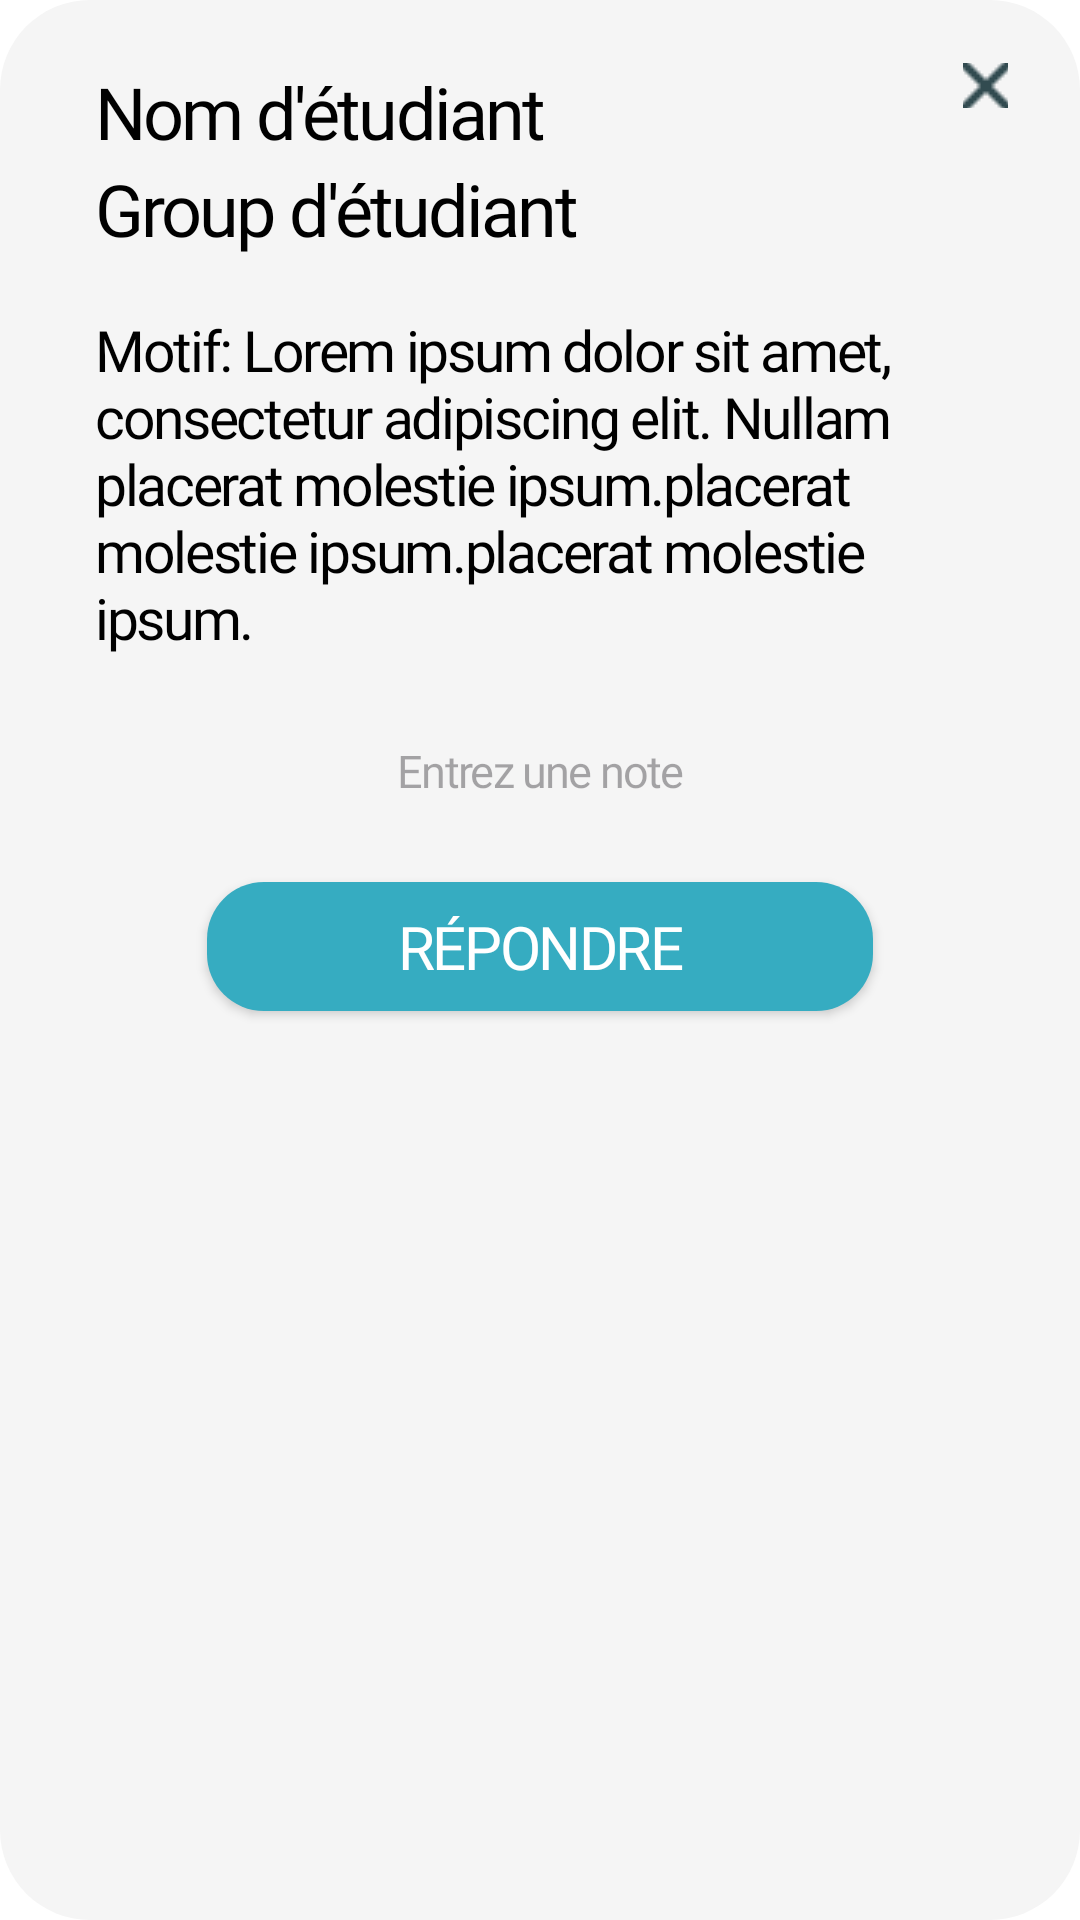

Point at icon controls on the screen. Image size 1080×1920, points as (x=x, y=y).
exit: (x=985, y=85)
